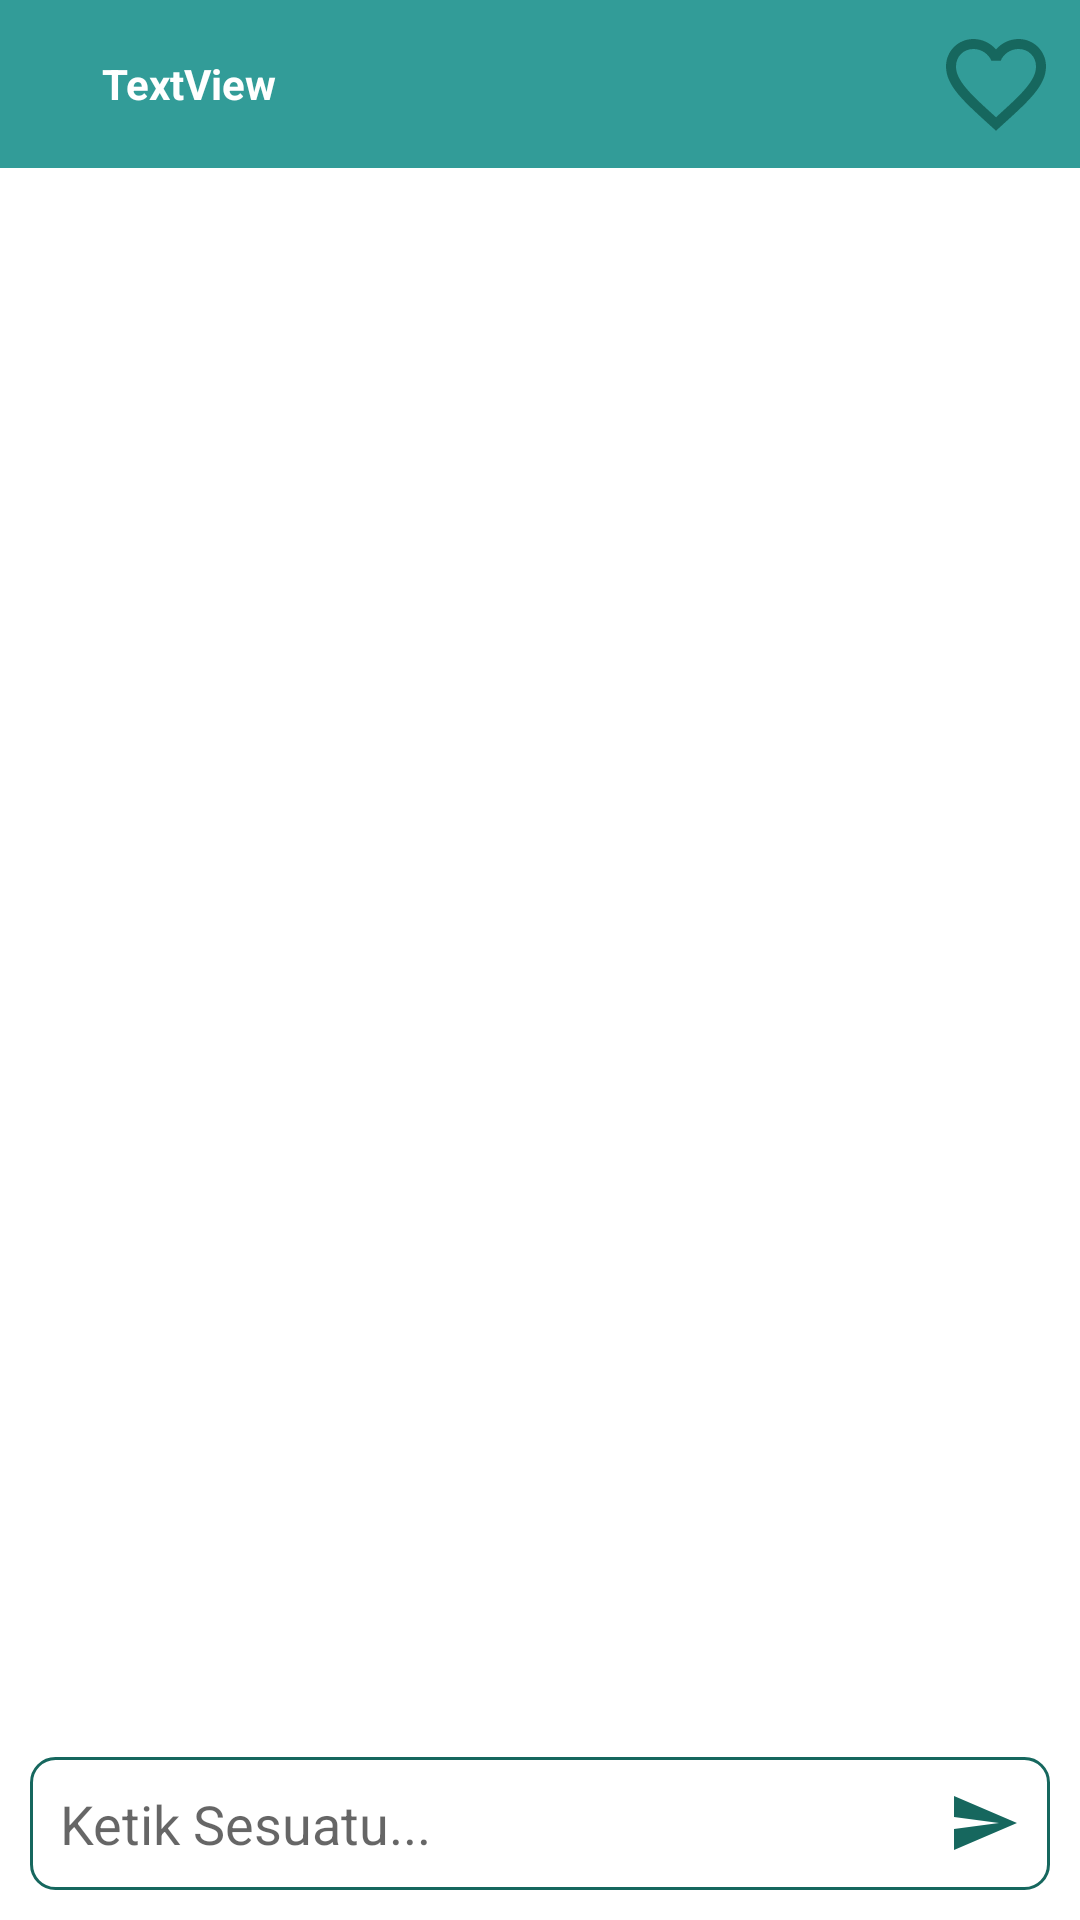

Named icons in this screenshot (1080x1920) and their centers, point (x, y):
favorit: point (996, 84)
send: point (985, 1823)
